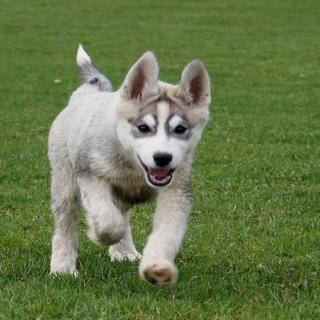dog: (114, 46, 219, 194)
nose: (150, 148, 177, 170)
